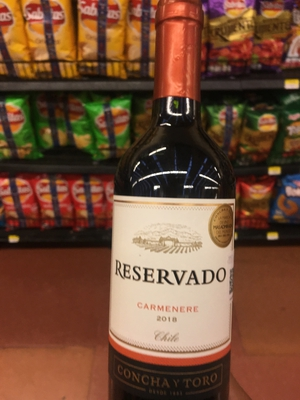reservado carmenere: (99, 8, 242, 400)
